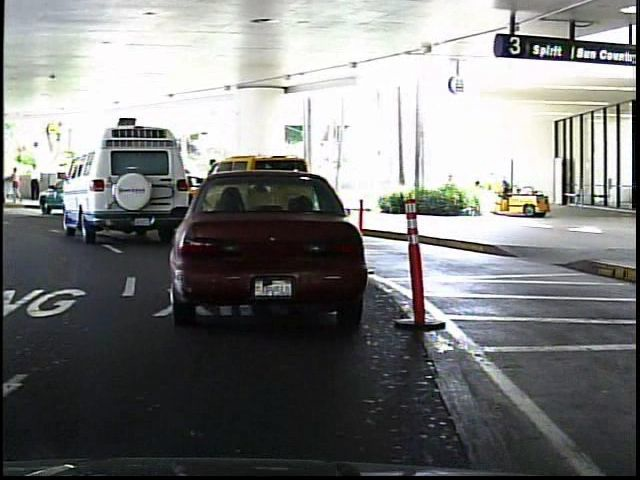person: (199, 157, 223, 218), (29, 161, 44, 204), (11, 164, 27, 204)
